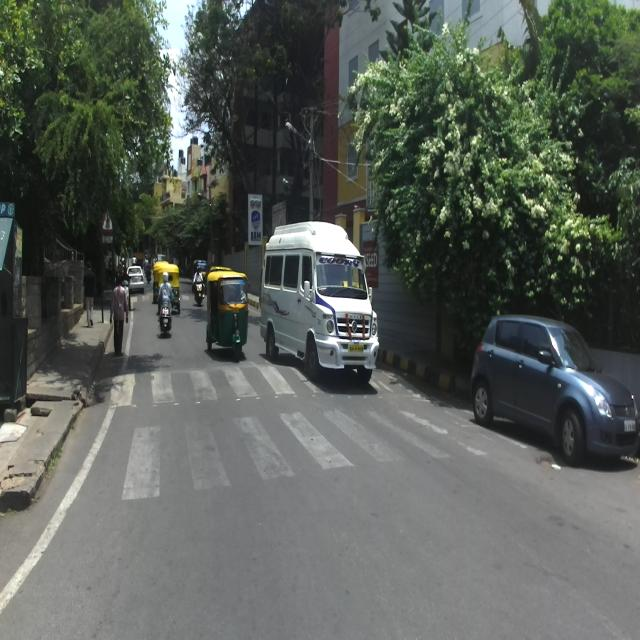auto ahead at: (208, 273, 251, 361)
bus ahead at: (264, 218, 382, 389)
car ahead at: (473, 312, 640, 469)
sign board ahead at: (97, 204, 117, 247)
